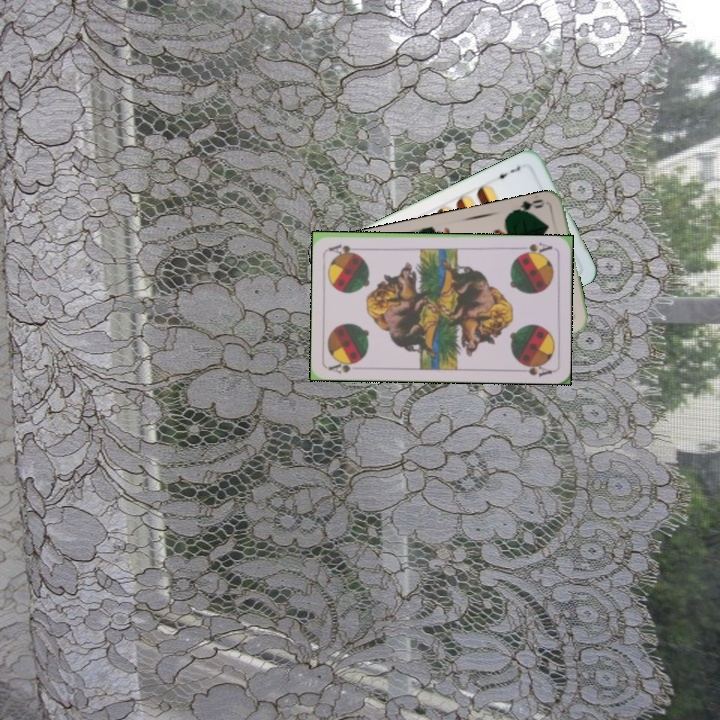E7: (491, 162, 523, 181)
GO: (508, 195, 547, 217)
SA: (516, 238, 555, 258), (325, 356, 364, 376)
